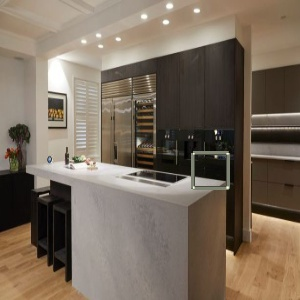square: (189, 149, 232, 191)
